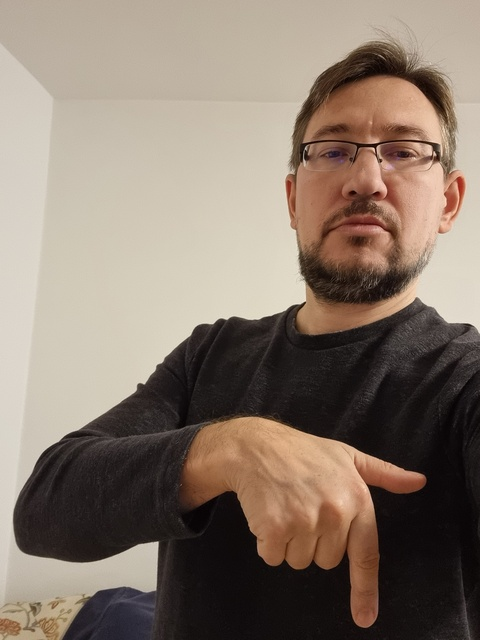GestDown: (257, 442, 423, 626)
